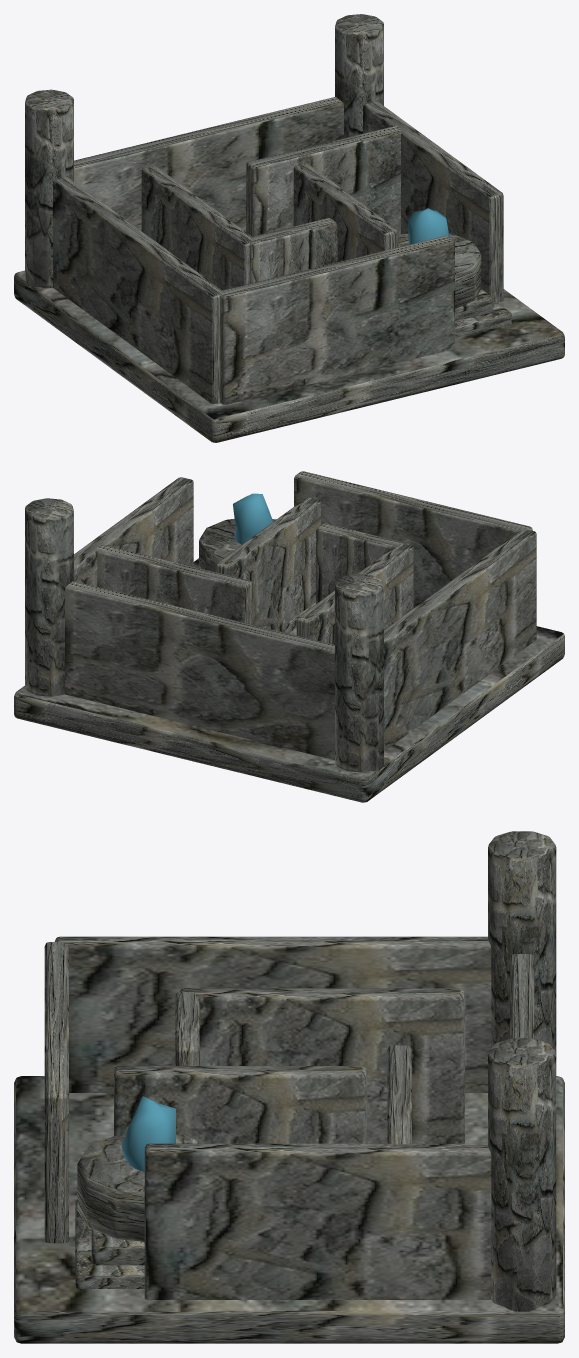
File: env-site-labyrinth.glb
3 views of the same model, one above another, from view 1: azimuth 30°, elevation 25°; view 2: azimuth 150°, elevation 25°; view 3: azimuth 270°, elevation 25° (orthographic). The views are drawn at different scales.
Parts seen in each view (by area): view 1: site labyrinth · authored textured miniature; view 2: site labyrinth · authored textured miniature; view 3: site labyrinth · authored textured miniature.
Boxes of the visible parts, box(x1,y1,x2,y2) form: site labyrinth · authored textured miniature: box(14, 14, 564, 442); site labyrinth · authored textured miniature: box(14, 471, 564, 802); site labyrinth · authored textured miniature: box(14, 831, 564, 1343).
Bounding box in the file's own units: 1.37 × 0.76 × 1.35.
Materials: 2 (1 with a texture image).
